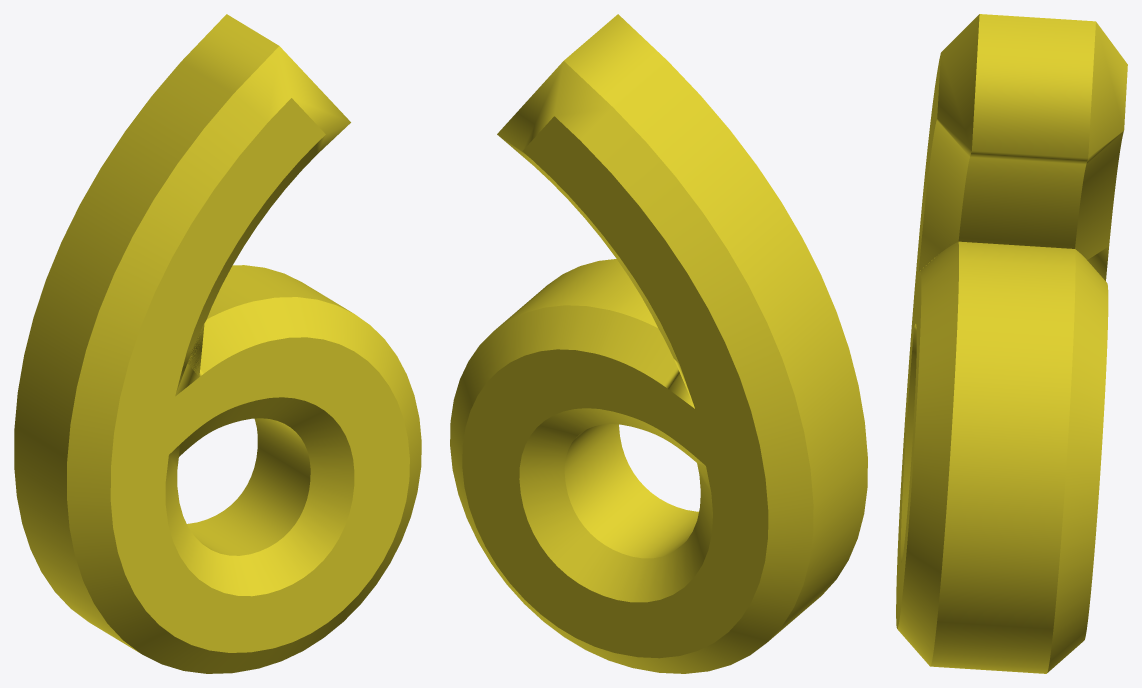
The model's file is SIS.fbx.
The picture shows the model from 3 angles, left to right: view 1: azimuth 30°, elevation 25°; view 2: azimuth 150°, elevation 25°; view 3: azimuth 270°, elevation 25°; orthographic projection. The views are drawn at different scales.
Visible parts, largest first — view 1: Text; view 2: Text; view 3: Text.
Part boxes in pixels (x1,y1,x2,y2): Text: (14, 14, 421, 673); Text: (450, 14, 867, 673); Text: (896, 14, 1127, 673).
Bounding box in the file's own units: 47.11 × 76.6 × 24.24.
